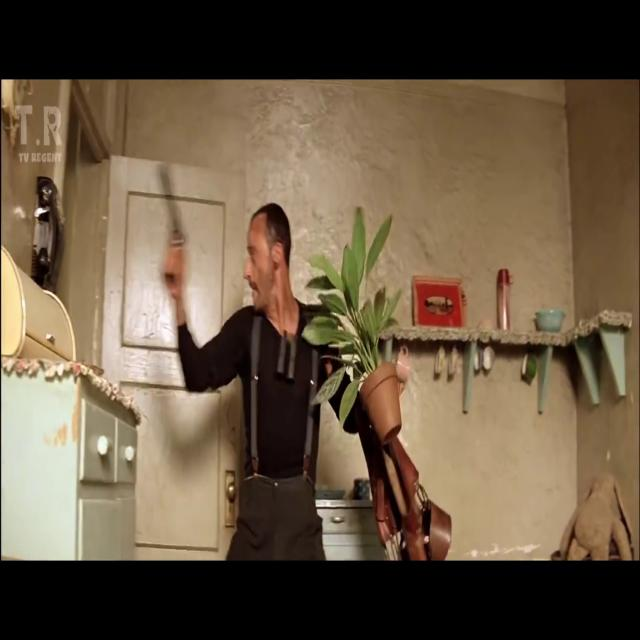handgun: (149, 165, 207, 305)
